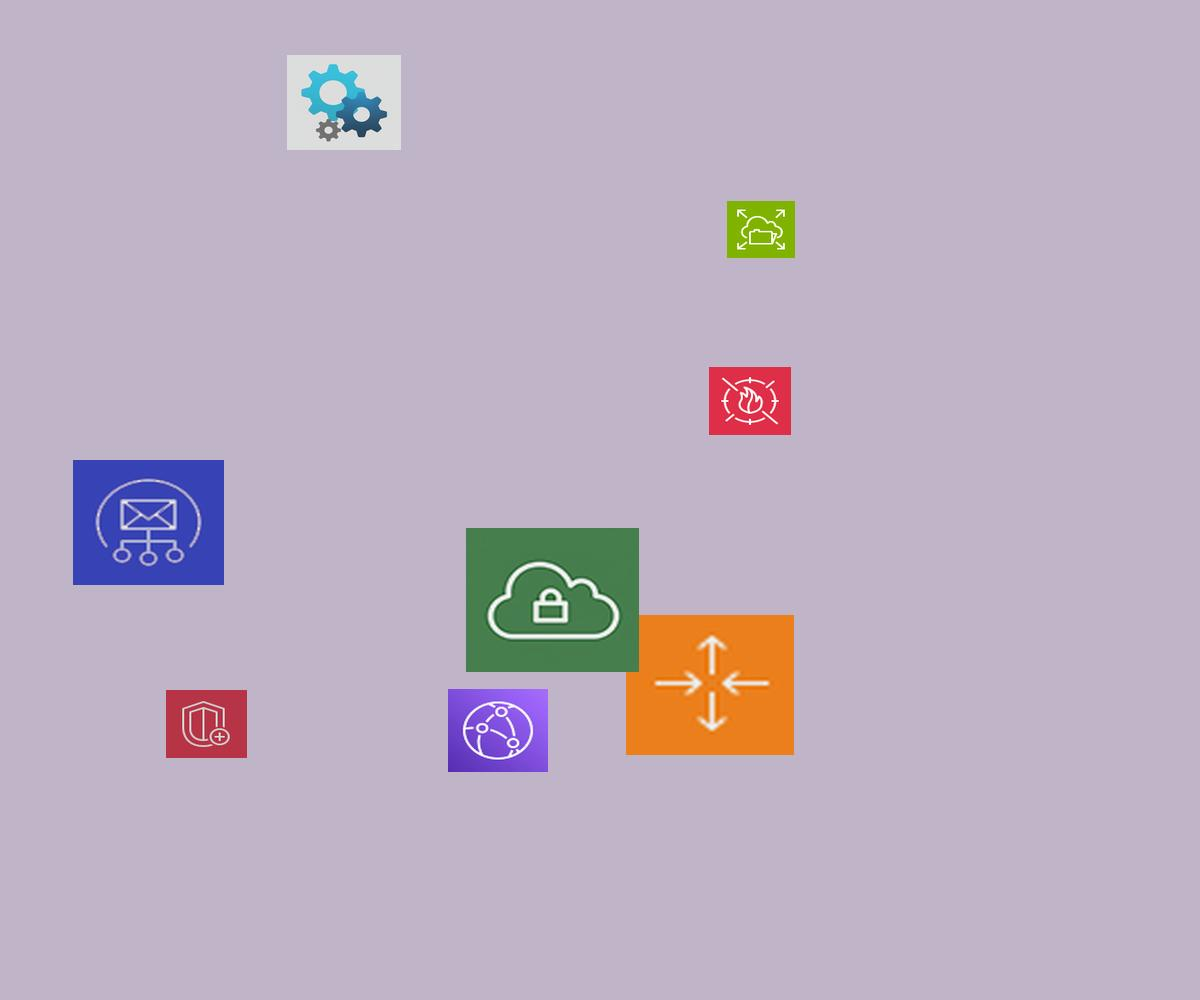AWS-CloudFront: (448, 689, 548, 772)
AWS-EFS: (727, 201, 795, 258)
AWS-Private_vpc: (466, 528, 639, 672)
AWS-Scaling-group: (626, 615, 794, 755)
AWS-Shield: (166, 690, 247, 758)
AWS-Simple-Email-Service: (73, 460, 224, 585)
AWS-WAF: (709, 367, 791, 435)
Azure_api: (287, 55, 401, 150)
